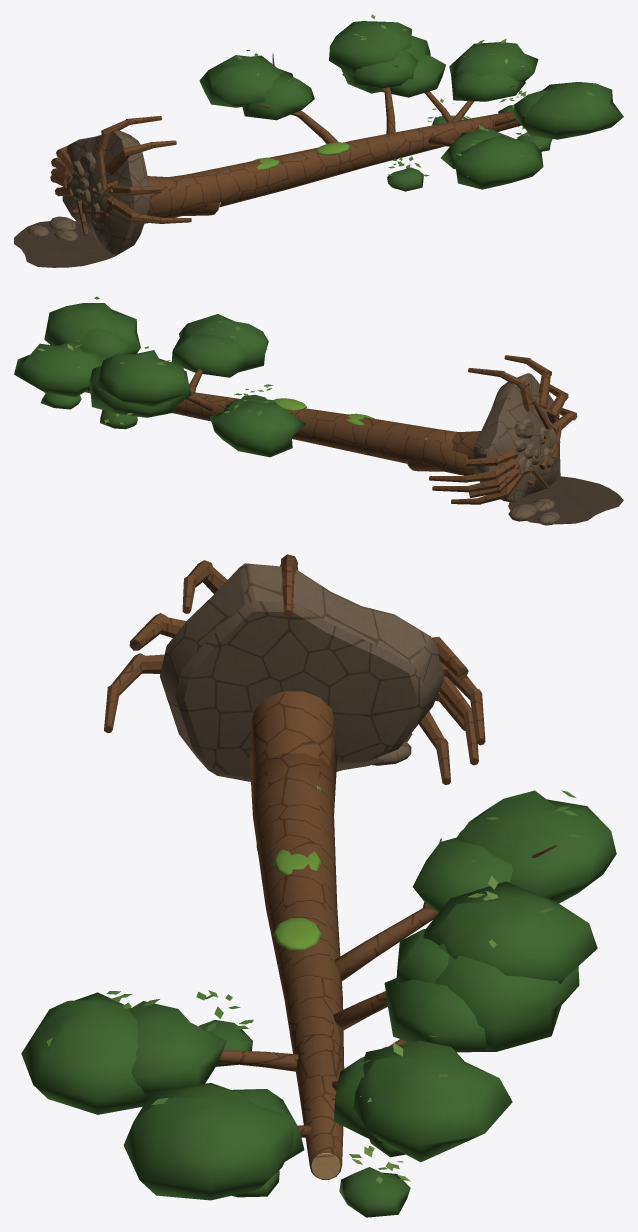
The model's file is fallen_tree_big.glb.
3 views of the same model, one above another, from view 1: azimuth 30°, elevation 25°; view 2: azimuth 150°, elevation 25°; view 3: azimuth 270°, elevation 25° (orthographic). The views are drawn at different scales.
Visible parts, largest first — view 1: fallen_tree_big; view 2: fallen_tree_big; view 3: fallen_tree_big.
Boxes of the visible parts, x1,y1,x2,y2 form: fallen_tree_big: [14, 14, 623, 267]; fallen_tree_big: [14, 296, 623, 525]; fallen_tree_big: [21, 554, 616, 1217].
Bounding box in the file's own units: 16.3 × 3.21 × 7.33.
9 materials, 9 textured.
